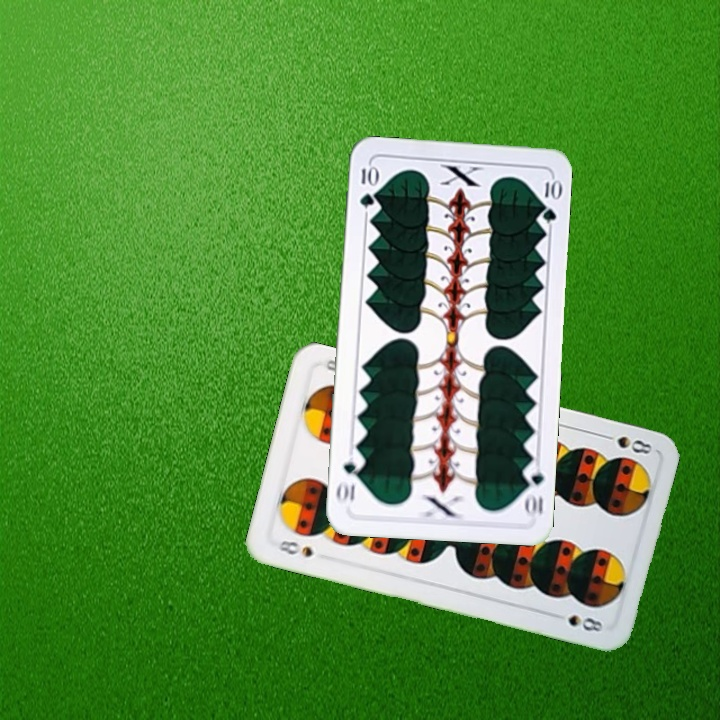G10: (519, 460, 546, 517), (356, 161, 378, 210)
S8: (597, 430, 654, 457), (274, 536, 316, 560)
